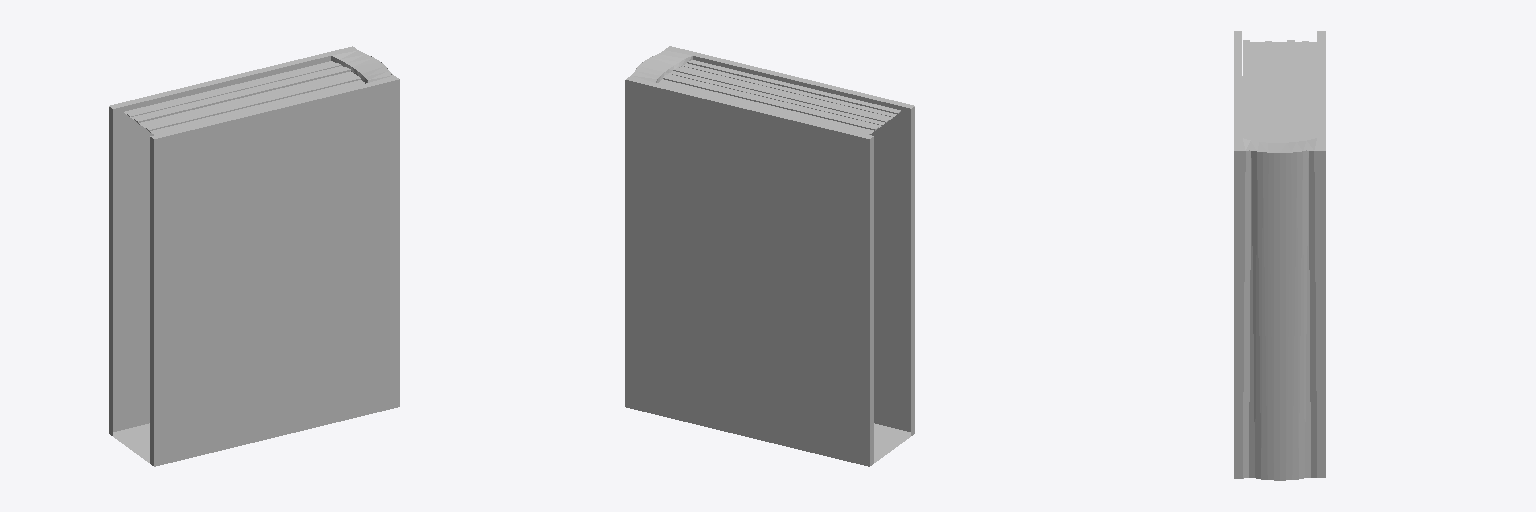
File: book2.obj
3 renders of one model, left to right at view 1: azimuth 30°, elevation 25°; view 2: azimuth 150°, elevation 25°; view 3: azimuth 270°, elevation 25°, orthographic.
Visible parts, largest first — view 1: Cube.006; view 2: Cube.006; view 3: Cube.006.
Part boxes in pixels (x1,y1,x2,y2): Cube.006: (109, 46, 399, 466); Cube.006: (625, 46, 914, 466); Cube.006: (1234, 31, 1325, 480).
Size of the model in its own units: 0.4004 by 0.503 by 0.1273.